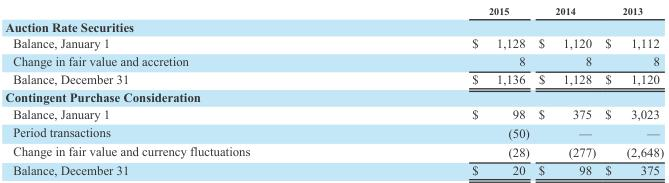table: (4, 4, 663, 176)
table column: (4, 4, 360, 176), (360, 4, 533, 176), (533, 4, 599, 176), (599, 4, 663, 176)
table column header: (4, 4, 663, 17)
table projected row header: (4, 87, 663, 105), (4, 17, 663, 34)
table row: (4, 122, 663, 141), (4, 141, 663, 160), (4, 34, 663, 52), (4, 52, 663, 70), (4, 87, 663, 105), (4, 17, 663, 34), (4, 70, 663, 87), (4, 105, 663, 122), (4, 160, 663, 176), (4, 4, 663, 17)
